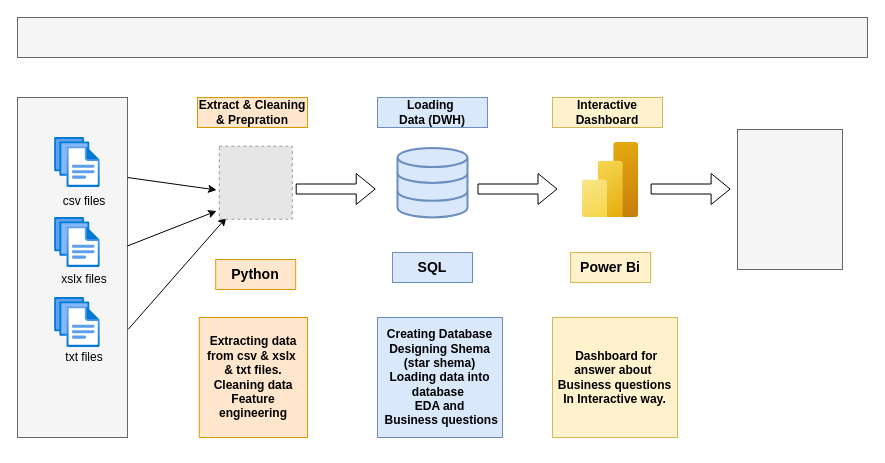
Image size: 885x463. Some labels were removed from this diagram. Grey dashed boxes stand in for pictures. The shapes that lost their labels are listed below. From the top down, each one's box as (x1, y1, x2, y2) in pixels, then its label:
(16, 16, 868, 58): Inventory Data & Analytics Engineering Project
(736, 128, 842, 270): Project Report: Documentation and Business Recommendation
